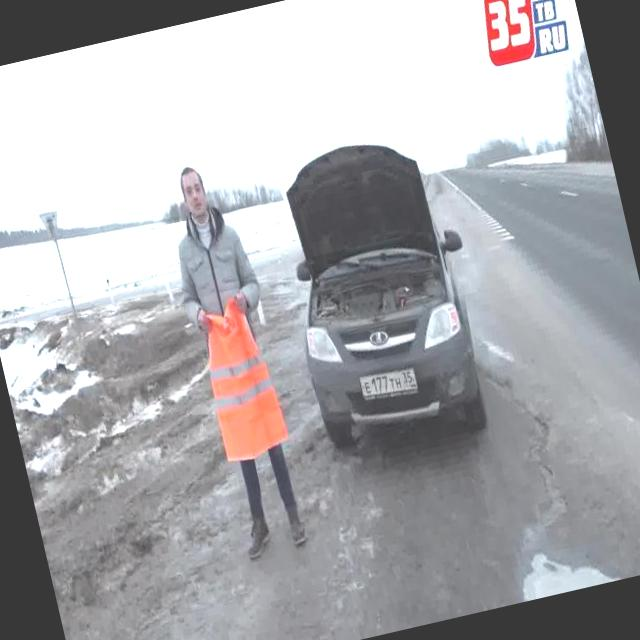no-helmet: (154, 158, 238, 244)
vest: (190, 287, 294, 467)
